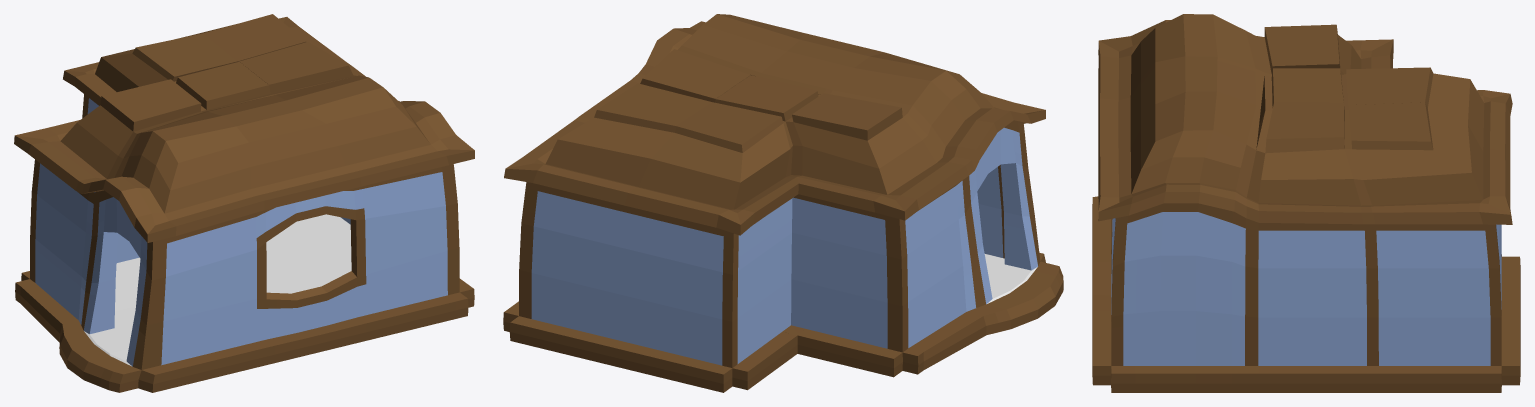
The model's file is casa.fbx.
3 views of the same model, side by side, from view 1: azimuth 30°, elevation 25°; view 2: azimuth 150°, elevation 25°; view 3: azimuth 270°, elevation 25° (orthographic). The views are drawn at different scales.
Parts seen in each view (by area): view 1: base, techo; view 2: base, techo; view 3: base, techo.
Part boxes in pixels (box(x1,y1,x2,y2)): base: box(15, 94, 474, 392); techo: box(14, 14, 474, 242); base: box(503, 121, 1063, 392); techo: box(504, 14, 1045, 235); base: box(1092, 196, 1520, 392); techo: box(1098, 14, 1512, 224).
Size of the model in its own units: 737 by 399 by 670.
